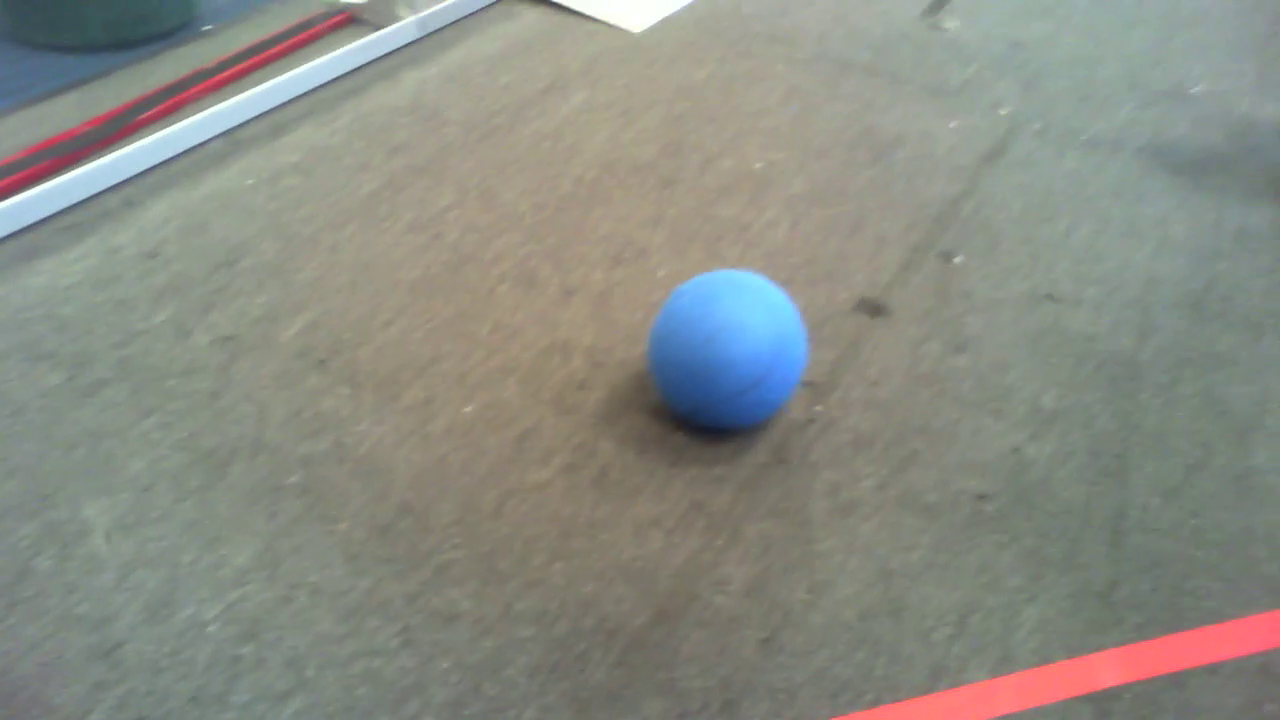blue_cargo: (647, 266, 806, 431)
